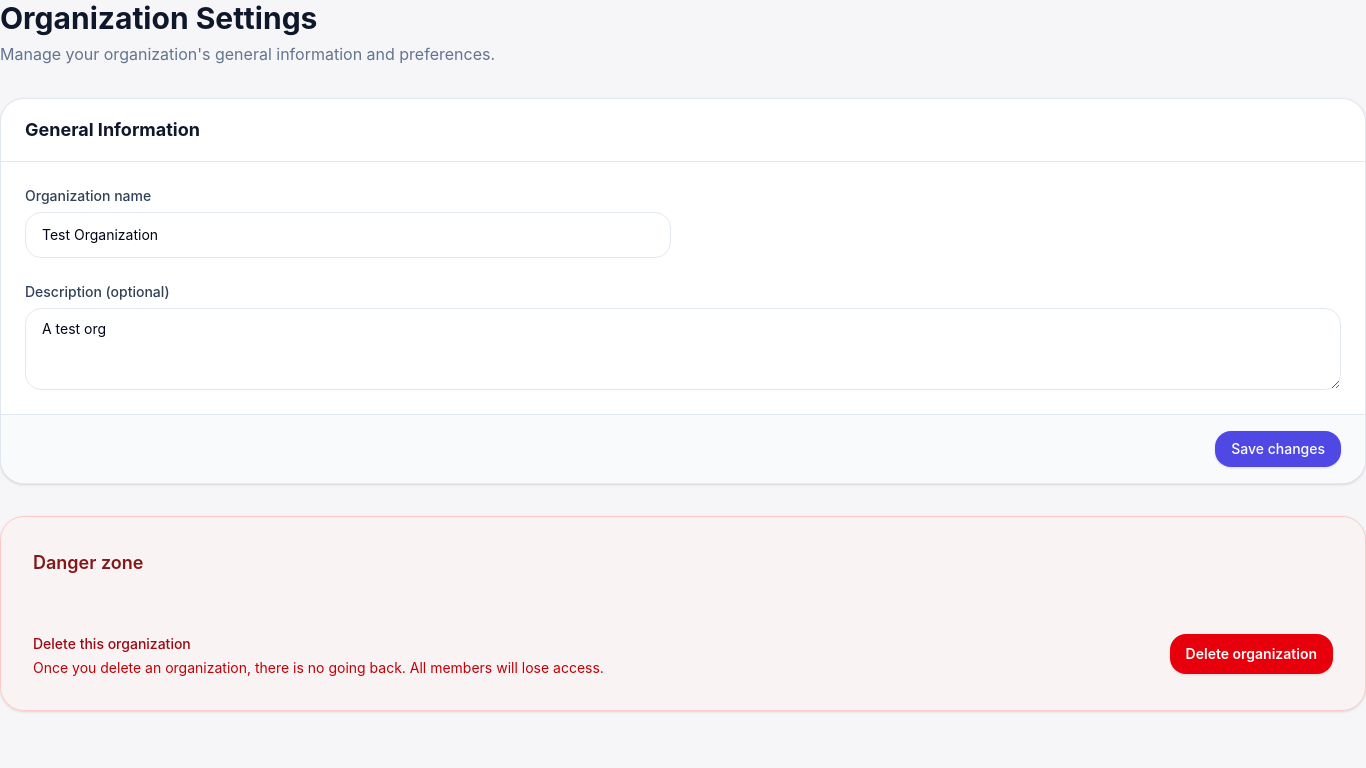
OrgSettingsForm › shows name-already-exists error on 409 conflict
Click the button "Save changes".
click(1278, 449)  # box [1215, 431, 1341, 467]
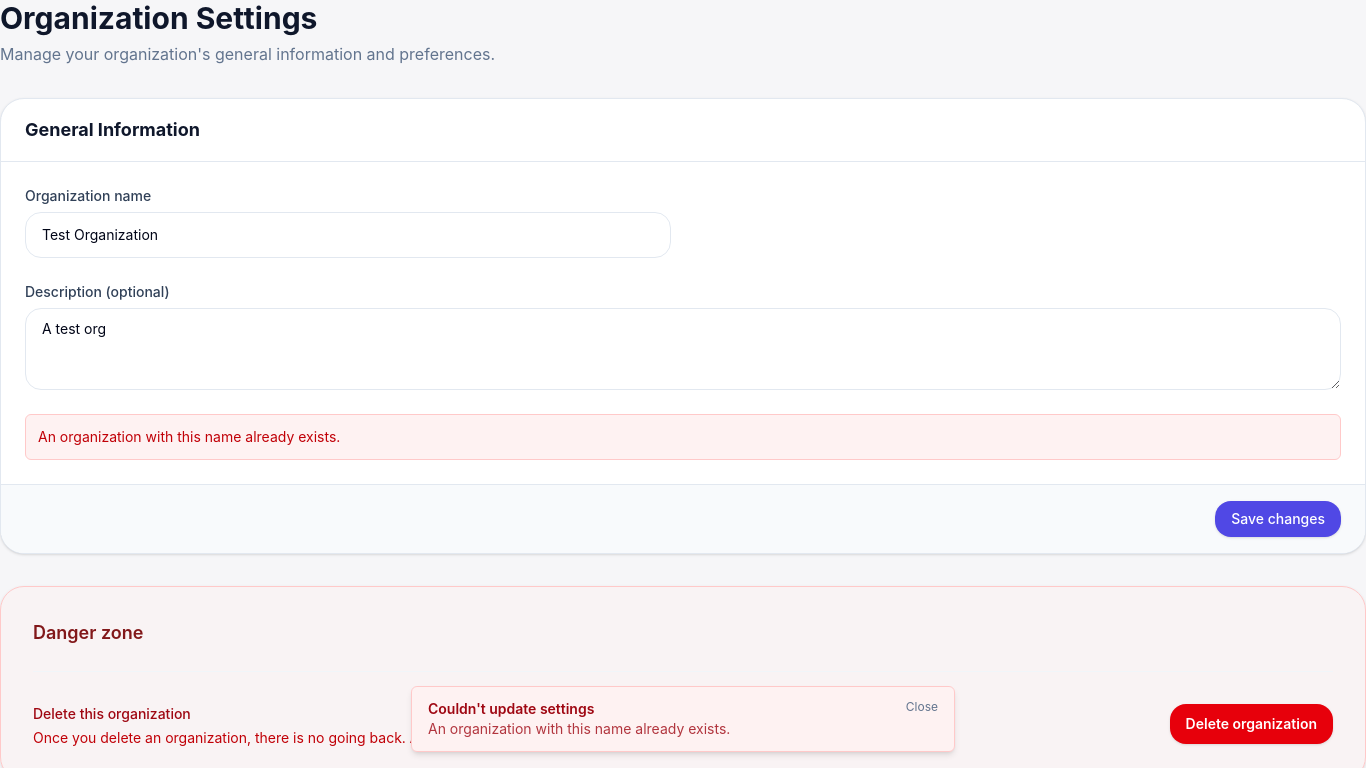
Expected: the text "Couldn't update settings" is shown, [428, 700, 594, 717]
Expected: the message "An organization with this name already exists." is shown, [25, 414, 1341, 460]
